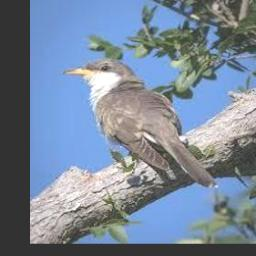Cuckoo: (62, 59, 218, 189)
